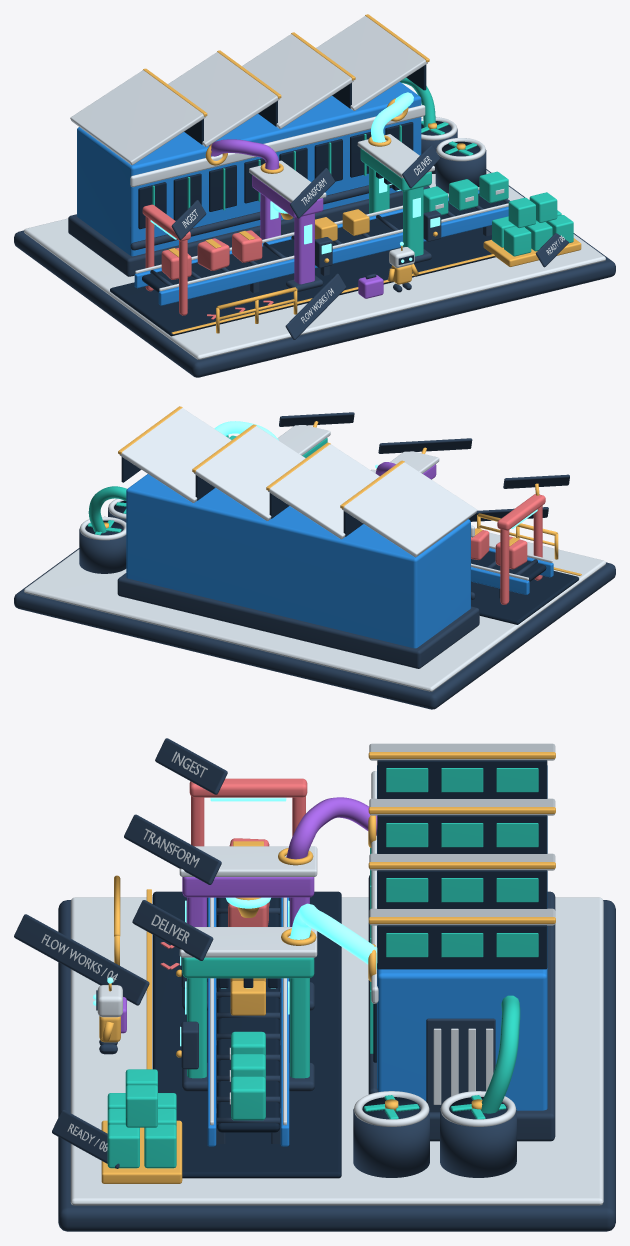
File: 04-data-factory.glb
3 views of the same model, one above another, from view 1: azimuth 30°, elevation 25°; view 2: azimuth 150°, elevation 25°; view 3: azimuth 270°, elevation 25° (orthographic). The views are drawn at different scales.
Visible parts, largest first — view 1: factory processing hall, factory inset concrete apron, factory island foundation, factory production floor, factory sawtooth sloped roof, factory sawtooth sloped roof.003, factory sawtooth sloped roof.001, factory sawtooth sloped roof.002, conveyor blue structural channel, factory hall foundation, factory front porcelain fascia, conveyor continuous graphite belt (+44 smaller); view 2: factory processing hall, factory inset concrete apron, factory island foundation, factory hall foundation, factory sawtooth sloped roof, factory sawtooth sloped roof.002, factory sawtooth sloped roof.003, factory sawtooth sloped roof.001, factory production floor, factory cooling fan drum.001, factory sign TRANSFORM, deliver station overhead white crown (+13 smaller); view 3: factory inset concrete apron, factory island foundation, factory production floor, factory processing hall, factory sawtooth clerestory glass.003, conveyor continuous graphite belt, factory cooling fan drum.001, factory cooling fan drum, factory sawtooth clerestory glass, factory sawtooth clerestory glass.001, factory sawtooth clerestory glass.002, factory side service door (+57 smaller).
Part boxes in pixels (left/top/right/bottom): factory processing hall: left=77, top=82, right=421, bottom=256; factory inset concrete apron: left=24, top=170, right=605, bottom=359; factory island foundation: left=14, top=169, right=615, bottom=377; factory production floor: left=110, top=227, right=495, bottom=336; factory sawtooth sloped roof: left=70, top=70, right=205, bottom=165; factory sawtooth sloped roof.003: left=316, top=16, right=427, bottom=110; factory sawtooth sloped roof.001: left=168, top=52, right=279, bottom=147; factory sawtooth sloped roof.002: left=242, top=34, right=353, bottom=128; conveyor blue structural channel: left=158, top=206, right=508, bottom=305; factory hall foundation: left=68, top=186, right=429, bottom=276; factory front porcelain fascia: left=130, top=105, right=425, bottom=187; conveyor continuous graphite belt: left=142, top=194, right=506, bottom=292; factory processing hall: left=126, top=474, right=470, bottom=648; factory inset concrete apron: left=24, top=532, right=605, bottom=691; factory island foundation: left=14, top=548, right=615, bottom=709; factory hall foundation: left=117, top=573, right=479, bottom=668; factory sawtooth sloped roof: left=342, top=462, right=477, bottom=557; factory sawtooth sloped roof.002: left=193, top=426, right=305, bottom=521; factory sawtooth sloped roof.003: left=119, top=408, right=231, bottom=502; factory sawtooth sloped roof.001: left=268, top=444, right=379, bottom=539; factory production floor: left=471, top=571, right=578, bottom=624; factory cooling fan drum.001: left=79, top=529, right=126, bottom=573; factory sign TRANSFORM: left=378, top=438, right=472, bottom=453; deliver station overhead white crown: left=277, top=425, right=330, bottom=455; factory inset concrete apron: left=70, top=897, right=603, bottom=1205; factory island foundation: left=58, top=900, right=615, bottom=1231; factory production floor: left=152, top=891, right=341, bottom=1178; factory processing hall: left=377, top=765, right=547, bottom=1110; factory sawtooth clerestory glass.003: left=377, top=925, right=547, bottom=969; conveyor continuous graphite belt: left=217, top=897, right=279, bottom=1132; factory cooling fan drum.001: left=440, top=1108, right=516, bottom=1177; factory cooling fan drum: left=353, top=1109, right=429, bottom=1177; factory sawtooth clerestory glass: left=377, top=760, right=547, bottom=798; factory sawtooth clerestory glass.001: left=377, top=815, right=547, bottom=853; factory sawtooth clerestory glass.002: left=377, top=870, right=547, bottom=908; factory side service door: left=426, top=1018, right=495, bottom=1112.
Size of the model in its own units: 12 by 4.47 by 9.71.
